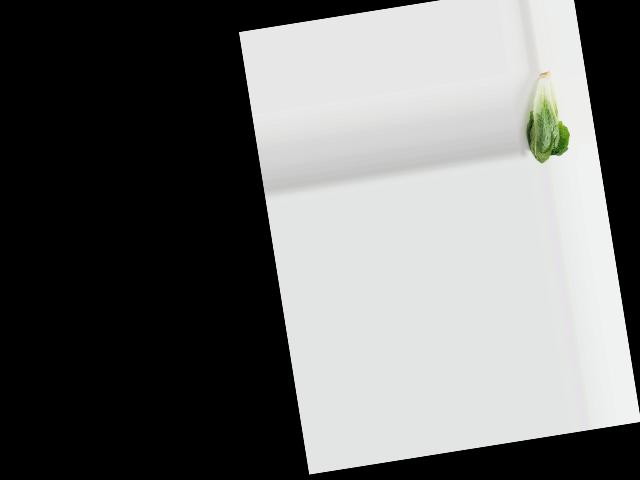lettuce: (514, 65, 574, 165)
